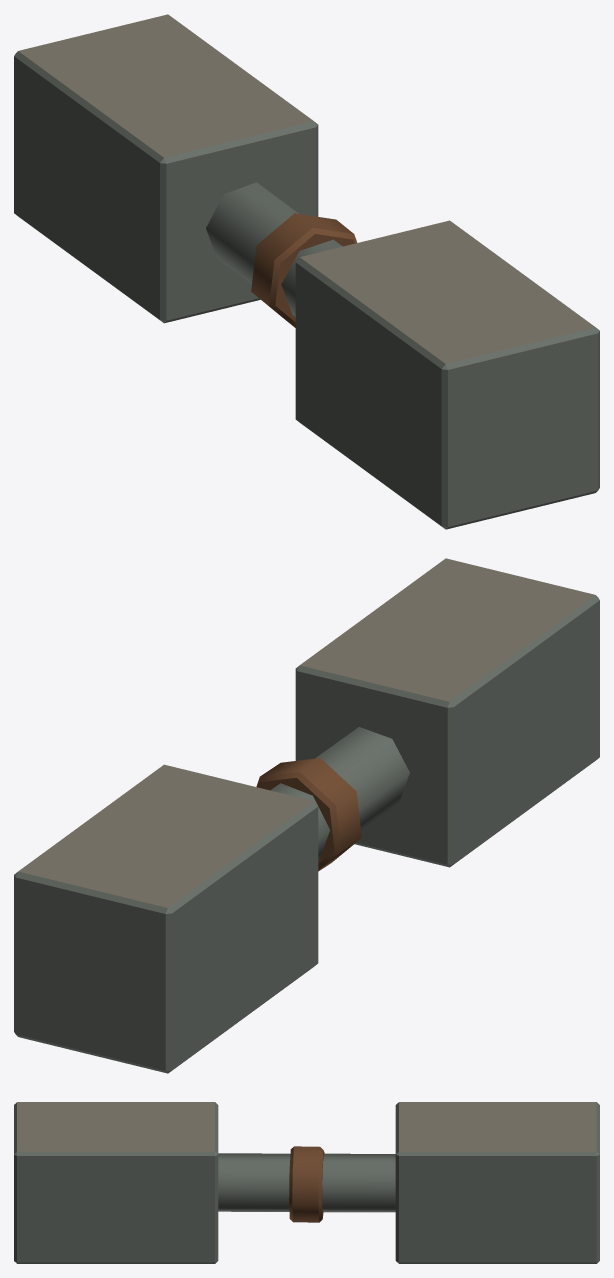
File: R4C_ROD_SHORT_LOD1.fbx
The picture shows the model from 3 angles, top to bottom: view 1: azimuth 30°, elevation 25°; view 2: azimuth 150°, elevation 25°; view 3: azimuth 270°, elevation 25°; orthographic projection. The views are drawn at different scales.
Parts seen in each view (by area): view 1: R4C_ROD_SHORT_LOD1; view 2: R4C_ROD_SHORT_LOD1; view 3: R4C_ROD_SHORT_LOD1.
Part boxes in pixels (x1,y1,x2,y2): R4C_ROD_SHORT_LOD1: [14, 14, 599, 529]; R4C_ROD_SHORT_LOD1: [14, 558, 599, 1073]; R4C_ROD_SHORT_LOD1: [14, 1102, 599, 1263].
Size of the model in its own units: 0.226 by 0.226 by 1.07.
